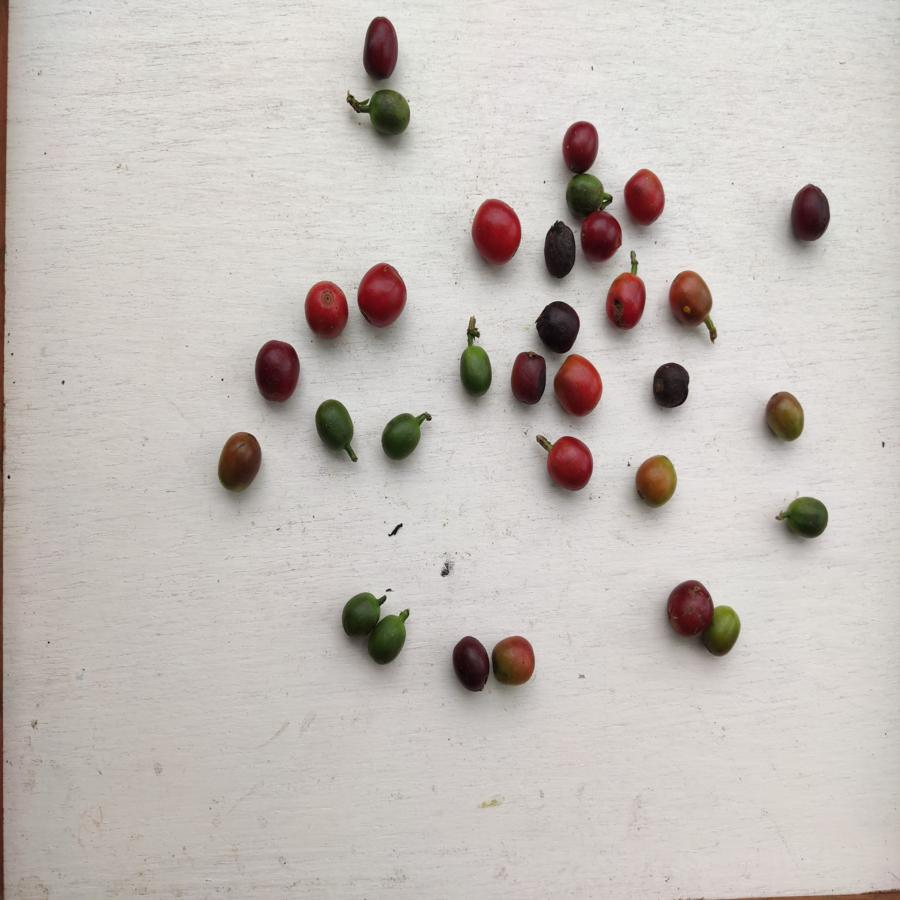Inmaduro: (313, 398, 358, 455), (366, 89, 414, 138), (456, 343, 494, 403), (785, 494, 831, 543), (381, 413, 421, 462), (368, 616, 409, 662), (341, 591, 380, 638), (564, 173, 609, 213)
Maduro: (471, 196, 523, 268), (552, 354, 606, 420), (358, 264, 408, 328), (541, 434, 594, 493), (623, 168, 668, 229), (303, 280, 348, 340), (604, 274, 648, 332)
Pinton: (667, 268, 714, 330), (492, 633, 538, 687), (763, 390, 807, 446), (634, 453, 677, 508), (706, 607, 742, 657)
Sobremaduro: (213, 429, 262, 494), (254, 338, 301, 405), (667, 579, 715, 640), (360, 13, 402, 79), (533, 299, 583, 354), (788, 182, 832, 244), (540, 219, 578, 283), (648, 360, 694, 411), (452, 633, 489, 696), (510, 351, 548, 408), (563, 122, 603, 174), (583, 213, 624, 261)
